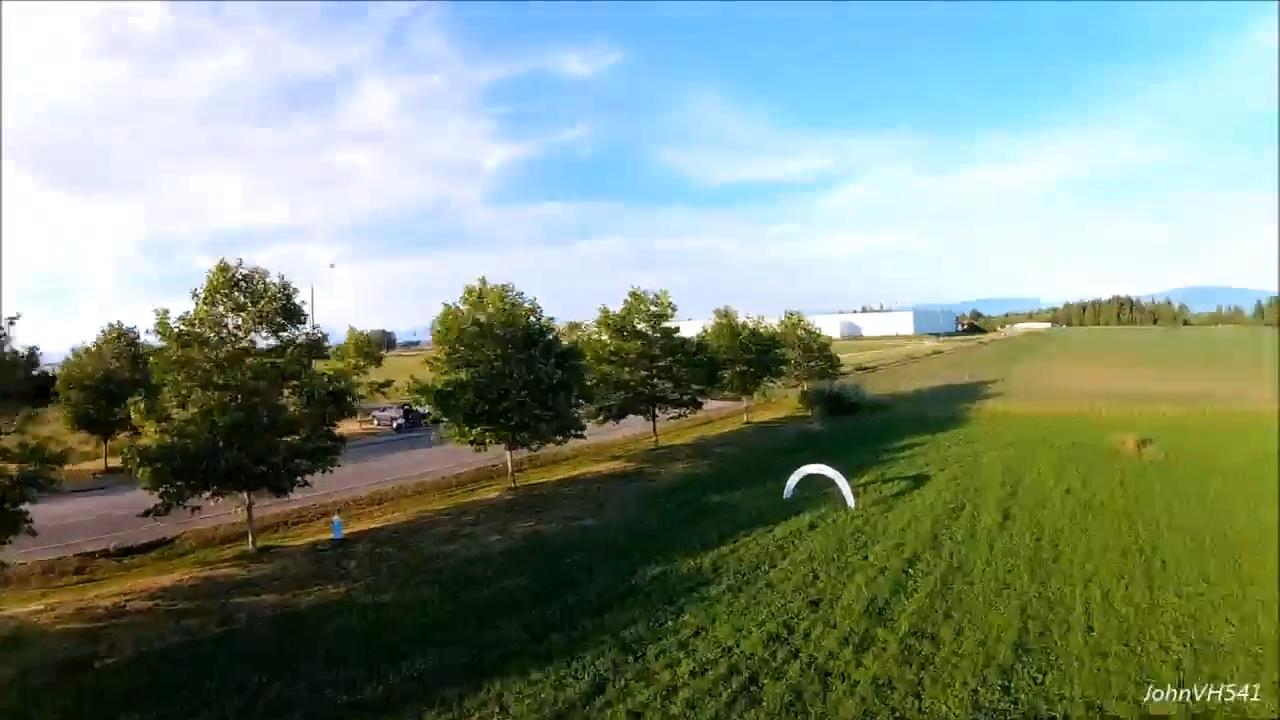gate: (783, 462, 855, 506)
